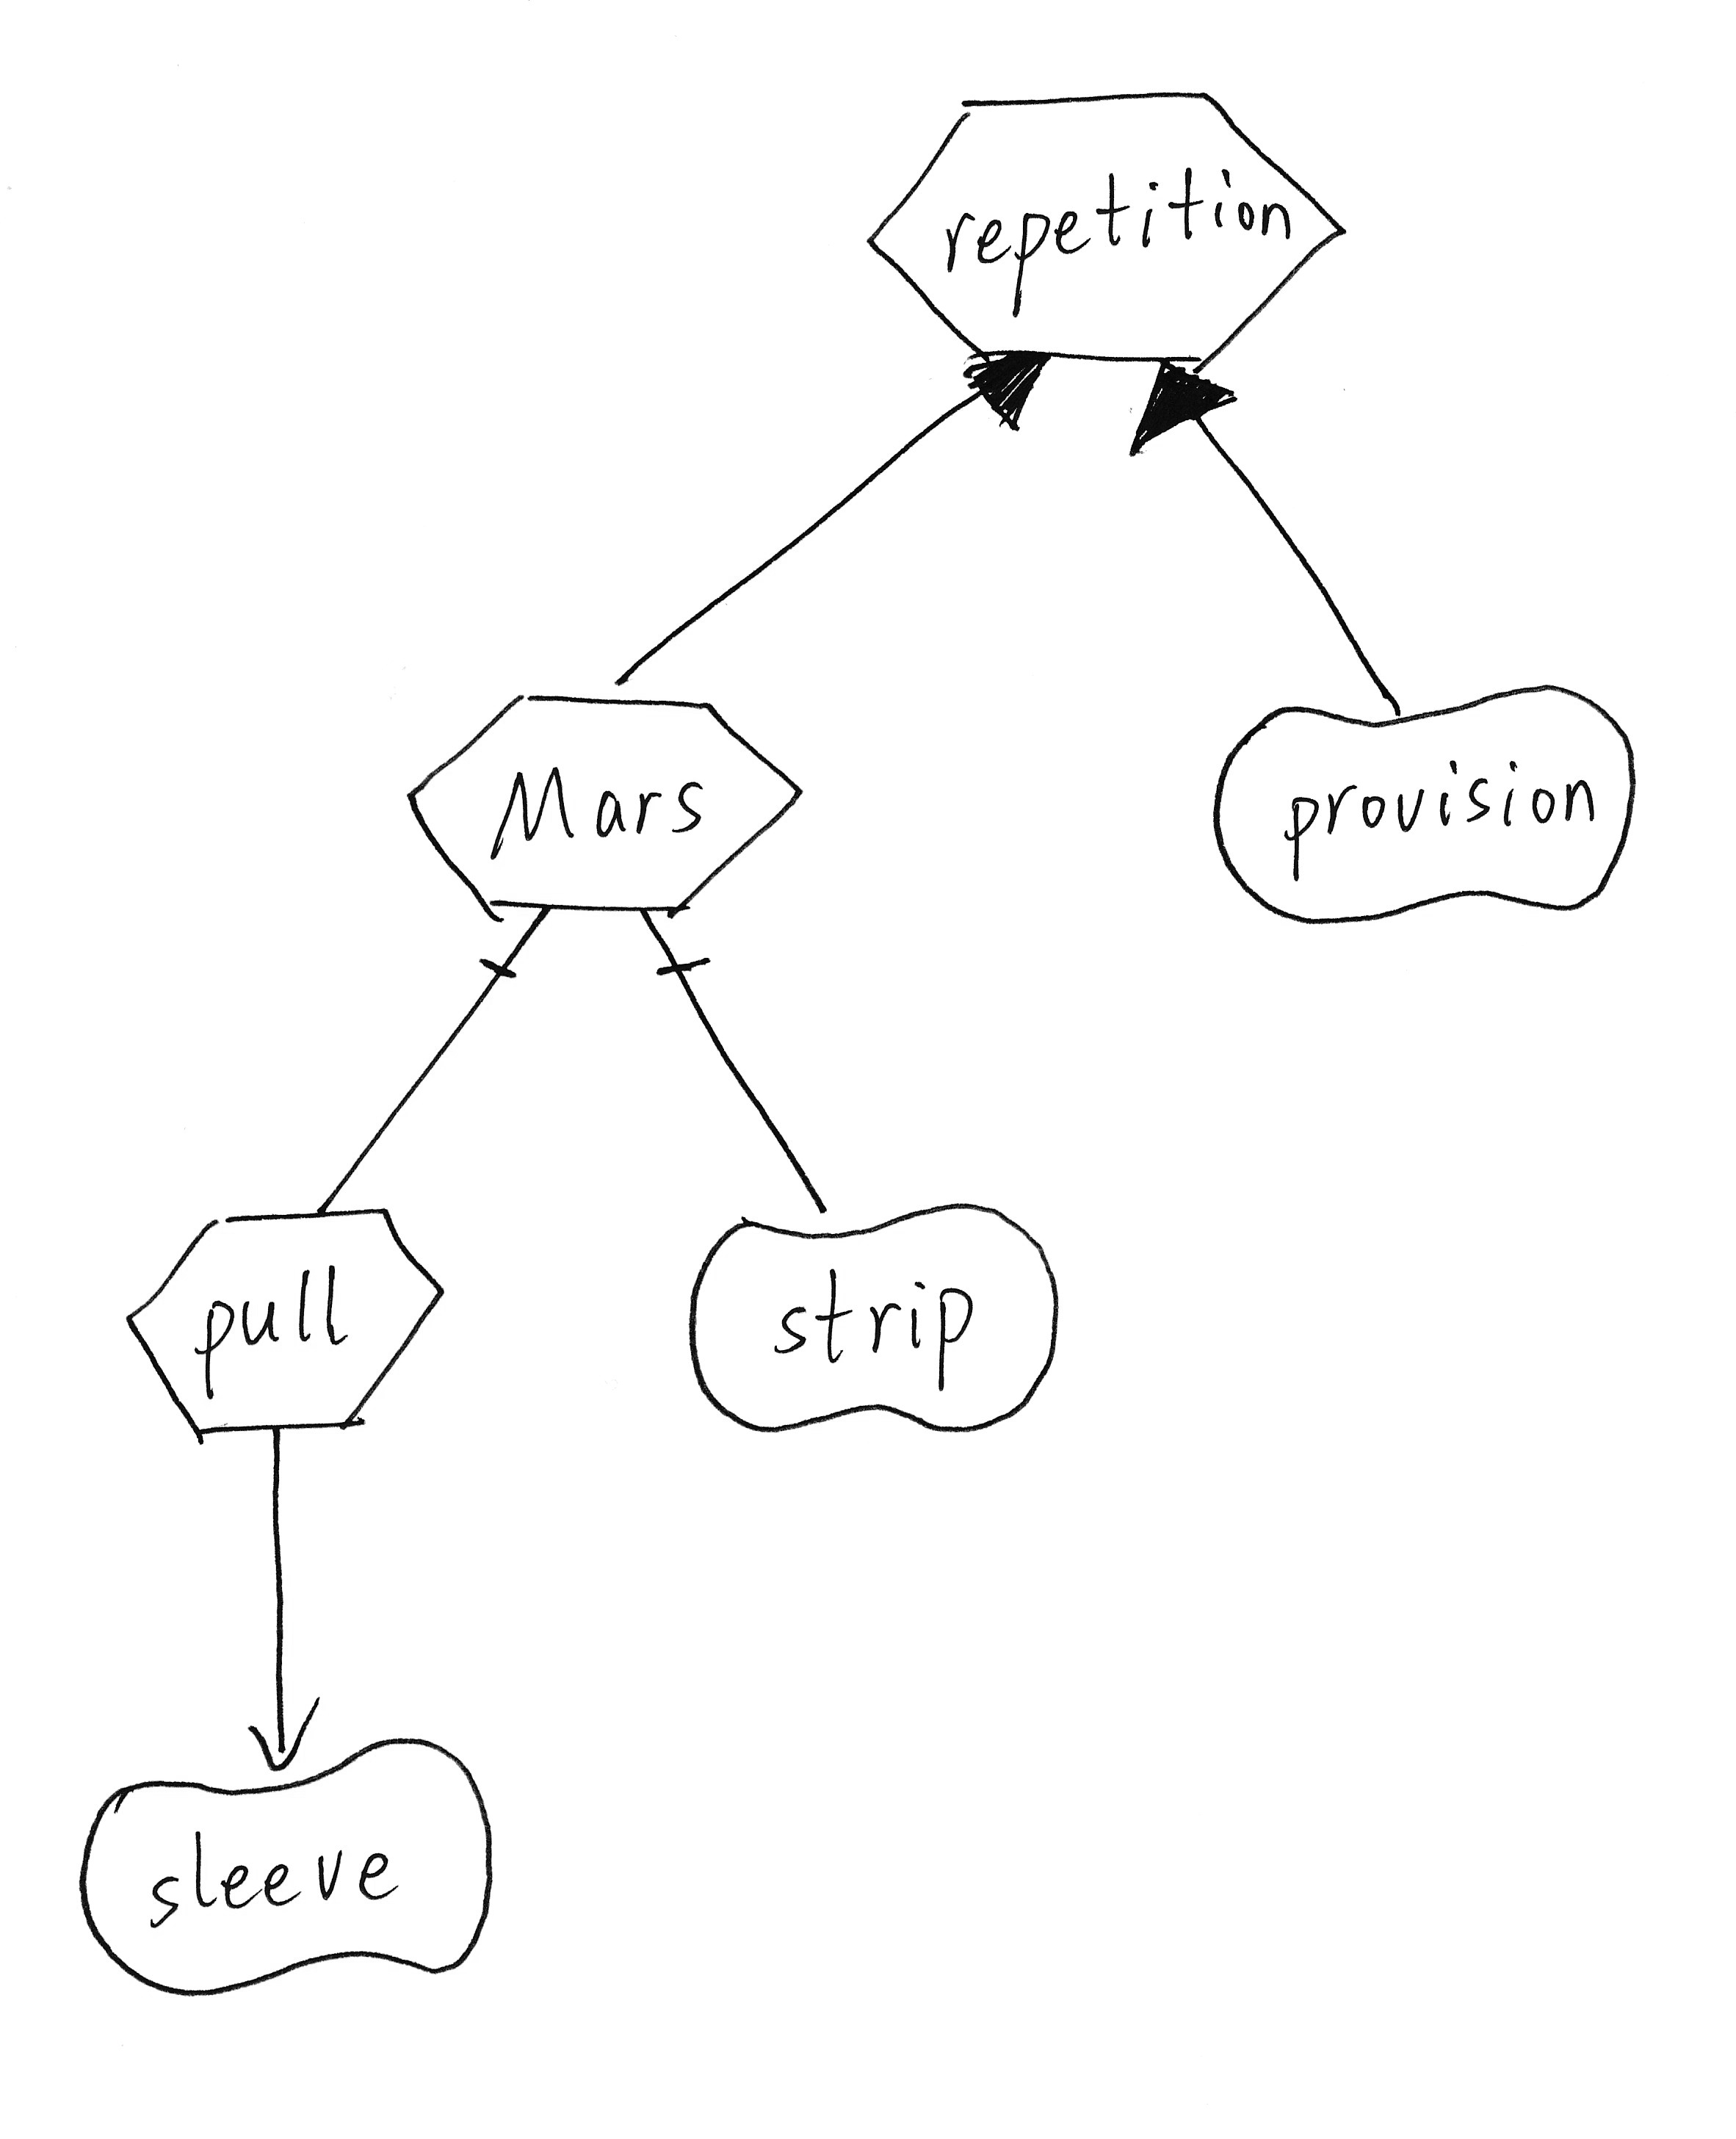and: (629, 888, 721, 1003), (471, 886, 560, 1005)
arrow: (236, 1687, 333, 1777)
or: (1118, 346, 1256, 468), (948, 328, 1070, 439)
quality: (1190, 668, 1670, 945), (64, 1719, 510, 2008), (664, 1186, 1079, 1448)
task: (850, 66, 1368, 395), (386, 666, 831, 934), (106, 1189, 464, 1453)
